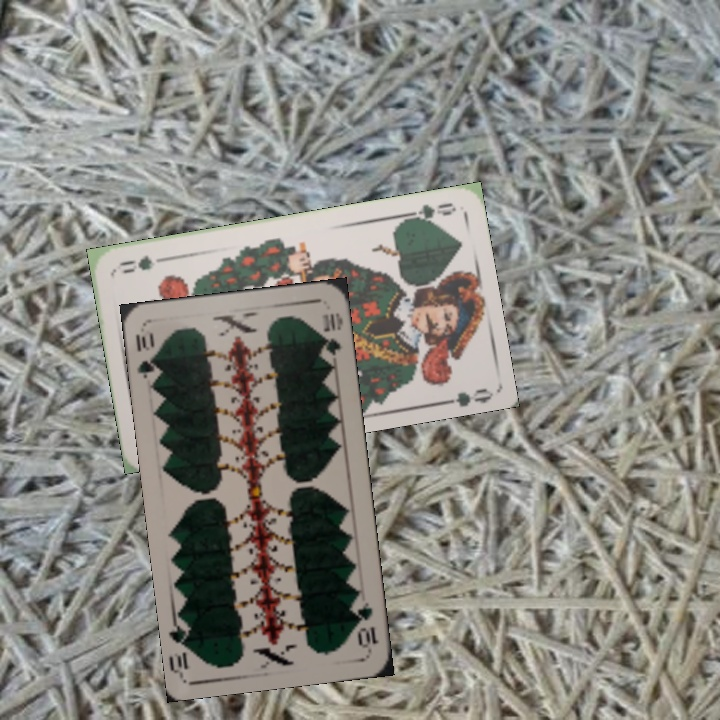G10: (131, 328, 162, 385), (351, 598, 381, 652)
GO: (400, 198, 459, 227)
